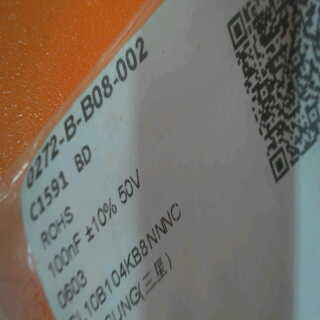100nF: (46, 228, 79, 284)
